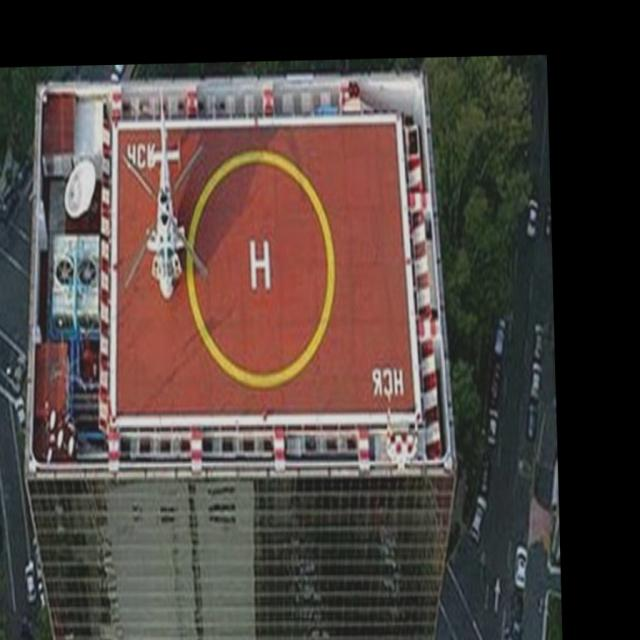helipad: (179, 146, 339, 392)
